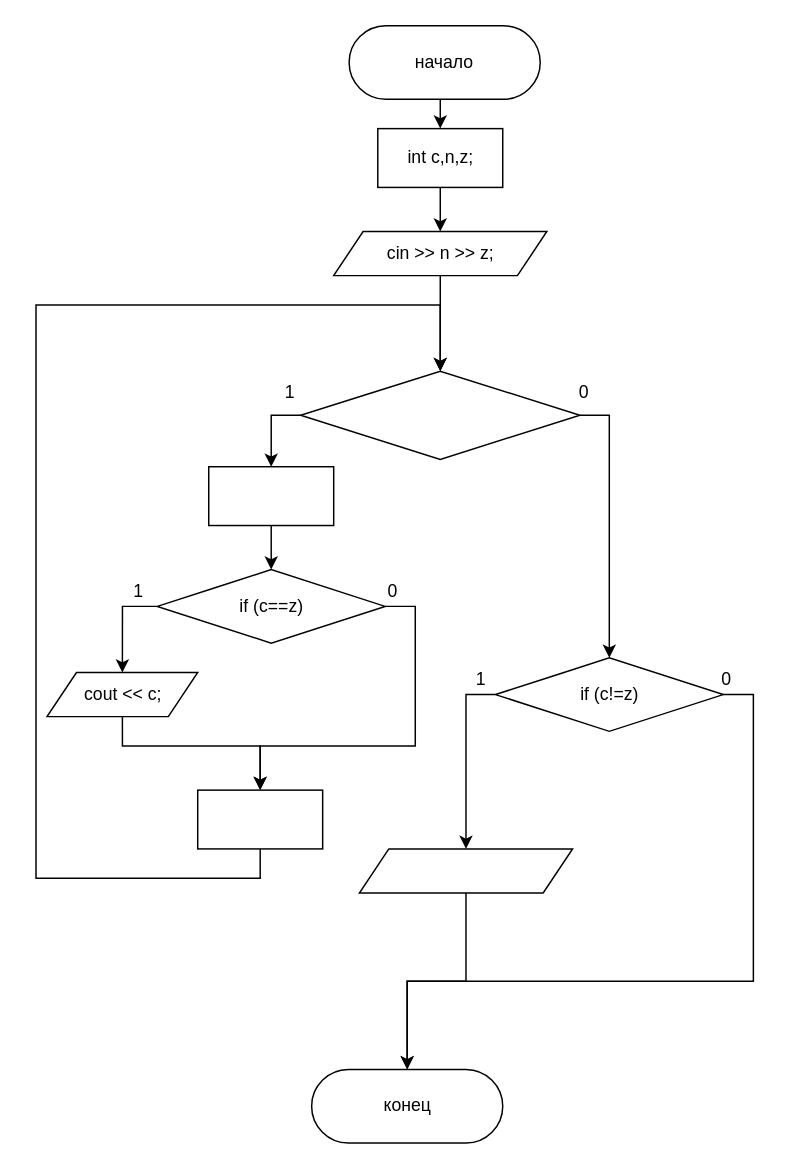
Some shapes in this 797 by 1169 pixel diagram are drawn without their labels. The centre of each missing label's shape, as x and y in pixels:
c = n % 10;: the point at 270,495
cout << "NO";: the point at 465,870
n = n / 10;: the point at 259,819
while (n>0): the point at 439,414
